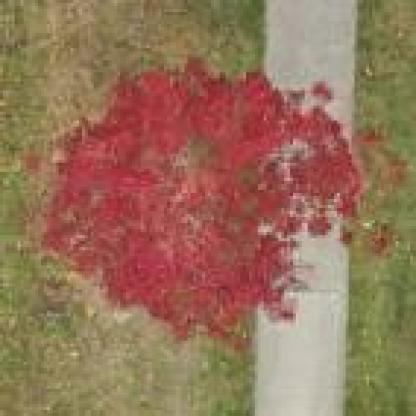Deciduous Tree: (34, 23, 385, 336)
